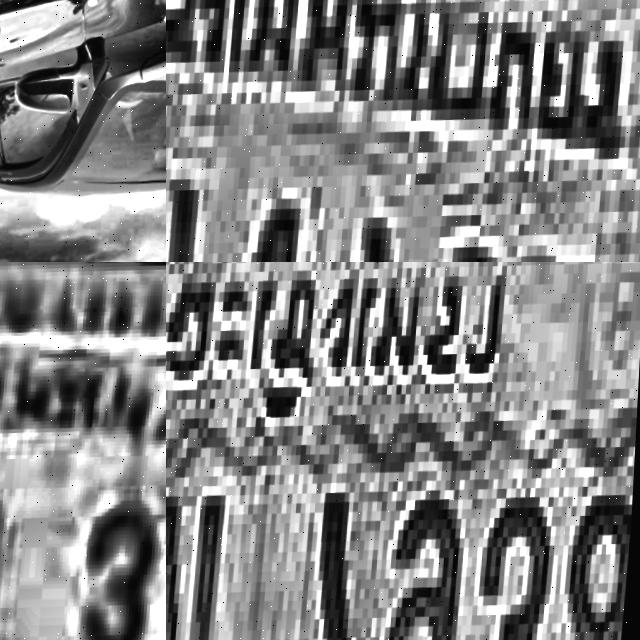license-plate: (166, 262, 640, 640), (166, 0, 640, 262), (0, 262, 166, 640)
